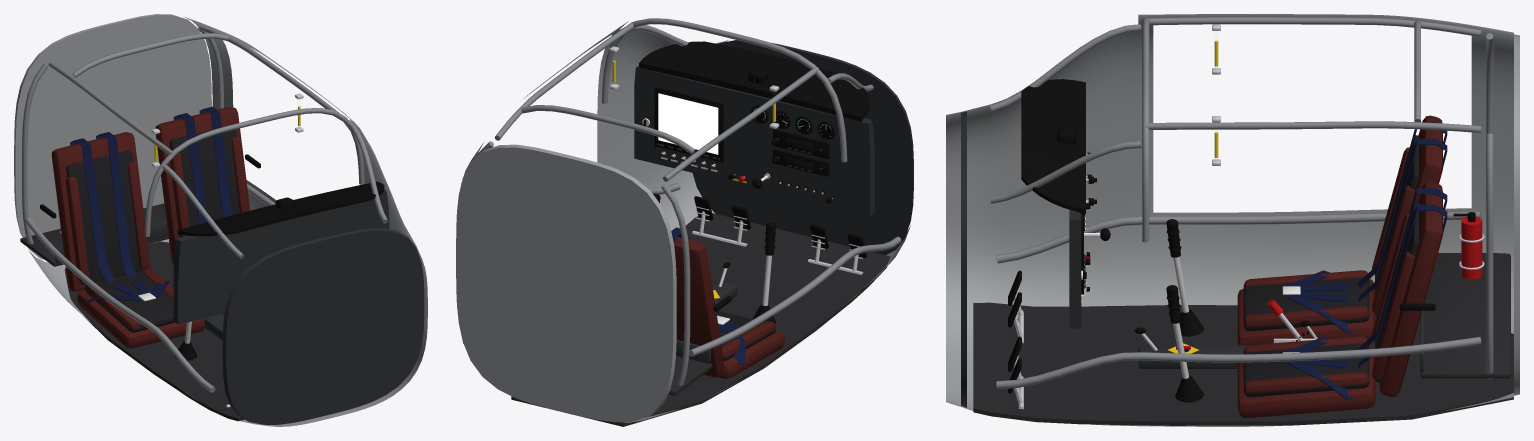
File: A240_interior.gltf
The picture shows the model from 3 angles, left to right: view 1: azimuth 30°, elevation 25°; view 2: azimuth 150°, elevation 25°; view 3: azimuth 270°, elevation 25°; orthographic projection. The views are drawn at different scales.
Parts seen in each view (by area): view 1: Cabin, Cabin_Liner; view 2: Cabin, Cabin_Liner, EFIS_Screen; view 3: Cabin, Cabin_Liner.
Boxes of the visible parts, x1=… form: Cabin: x1=14, y1=14, x2=424, y2=424; Cabin_Liner: x1=28, y1=16, x2=427, y2=426; Cabin: x1=456, y1=18, x2=913, y2=426; Cabin_Liner: x1=461, y1=21, x2=910, y2=422; EFIS_Screen: x1=658, y1=93, x2=718, y2=154; Cabin: x1=961, y1=17, x2=1519, y2=425; Cabin_Liner: x1=946, y1=14, x2=1513, y2=426.
Size of the model in its own units: 1.13 by 1.23 by 1.91.
